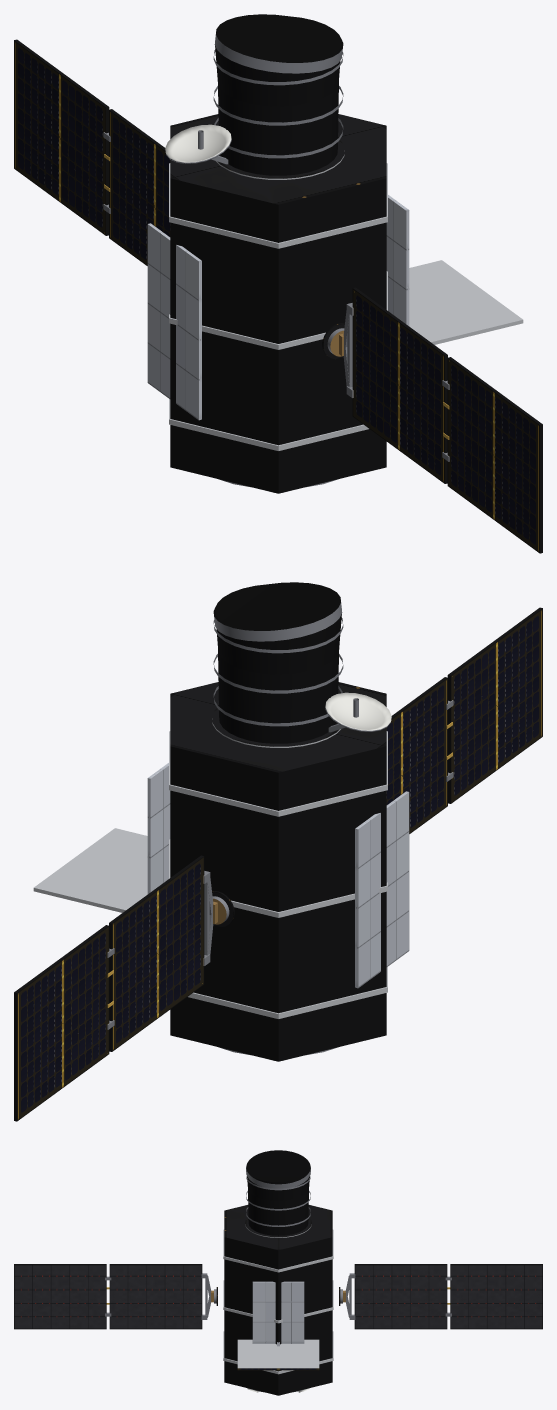
File: pleiades-neo.glb
The picture shows the model from 3 angles, top to bottom: view 1: azimuth 30°, elevation 25°; view 2: azimuth 150°, elevation 25°; view 3: azimuth 270°, elevation 25°; orthographic projection. The views are drawn at different scales.
Parts seen in each view (by area): view 1: bus, wing-Y, wing+Y; view 2: bus, wing+Y, wing-Y; view 3: bus, wing+Y, wing-Y.
Boxes of the visible parts, x1,y1,x2,y2 form: bus: (147, 14, 523, 493); wing-Y: (339, 287, 542, 553); wing+Y: (14, 39, 170, 265); bus: (33, 582, 409, 1061); wing+Y: (14, 855, 217, 1121); wing-Y: (386, 607, 542, 833); bus: (223, 1150, 333, 1395); wing+Y: (343, 1264, 542, 1329); wing-Y: (14, 1264, 213, 1329).
Size of the model in its own units: 2.56 by 3.38 by 7.42.
14 materials, 4 textured.
